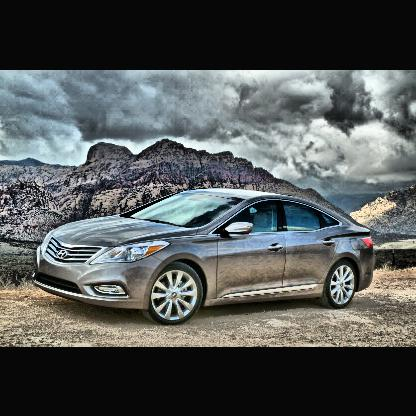Hyundai Azera Sedan 2012: (30, 182, 377, 326)
